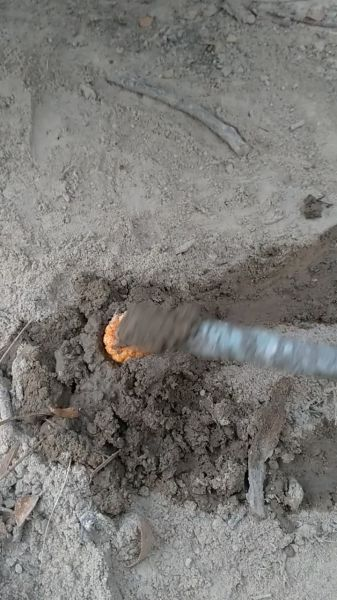eggs: (103, 312, 160, 364)
